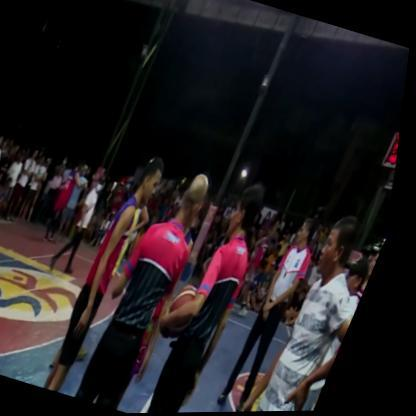basketball: (160, 284, 211, 345)
